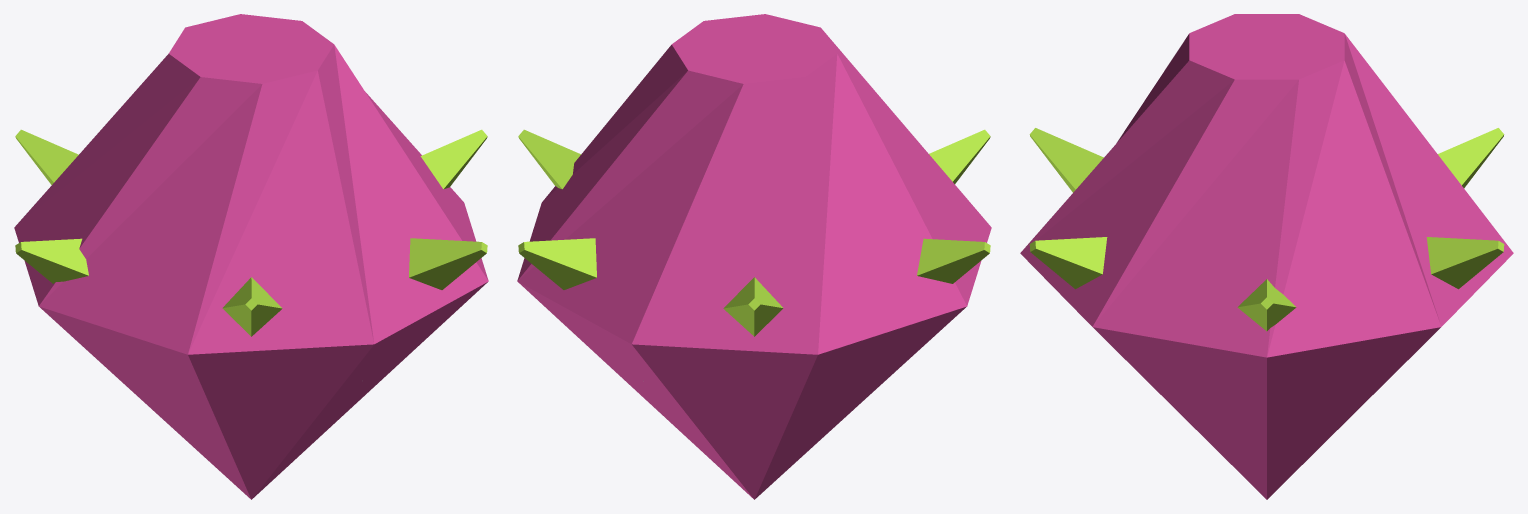
File: dragonfruit_crystal.glb
3 renders of one model, left to right at view 1: azimuth 30°, elevation 25°; view 2: azimuth 150°, elevation 25°; view 3: azimuth 270°, elevation 25°, orthographic.
Visible parts, largest first — view 1: dragonfruit_crystal; view 2: dragonfruit_crystal; view 3: dragonfruit_crystal.
Part boxes in pixels (x1=…): dragonfruit_crystal: x1=14, y1=14, x2=488, y2=499; dragonfruit_crystal: x1=517, y1=14, x2=991, y2=499; dragonfruit_crystal: x1=1020, y1=14, x2=1513, y2=499.
Size of the model in its own units: 1.73 by 1.58 by 1.56.
